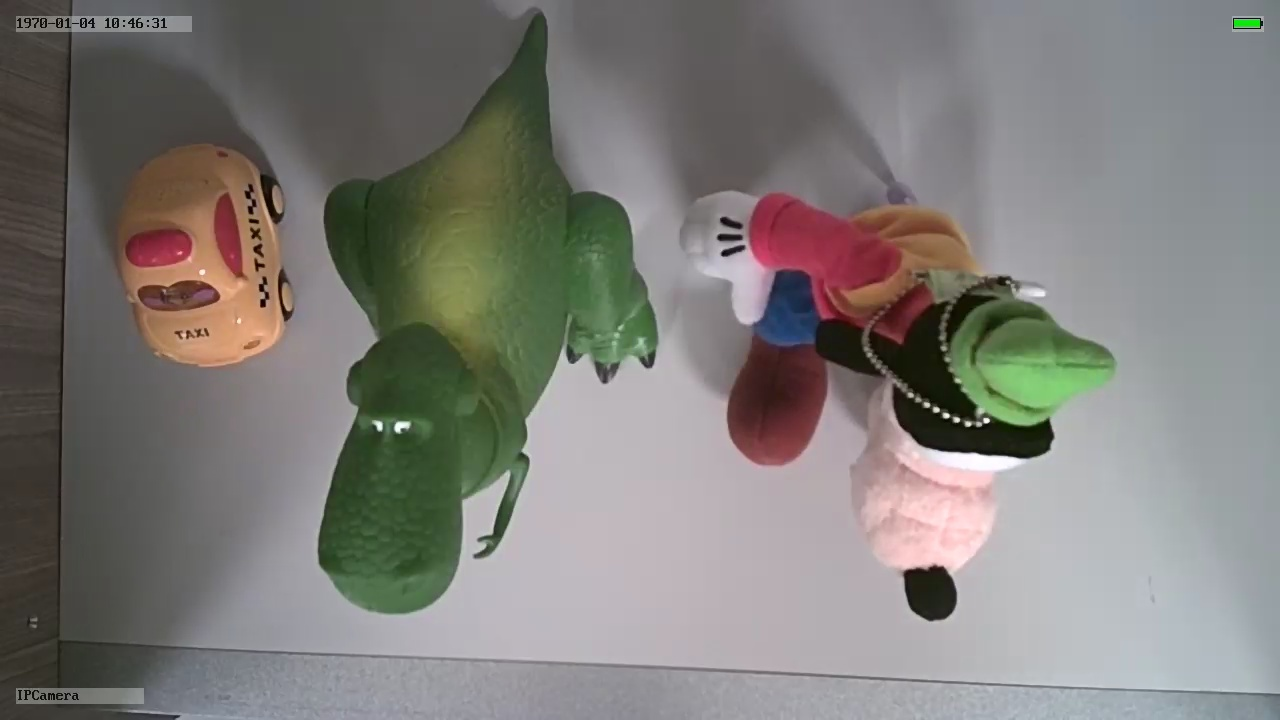car: (117, 141, 301, 371)
goofy: (678, 183, 1119, 633)
rex: (319, 98, 659, 614)
